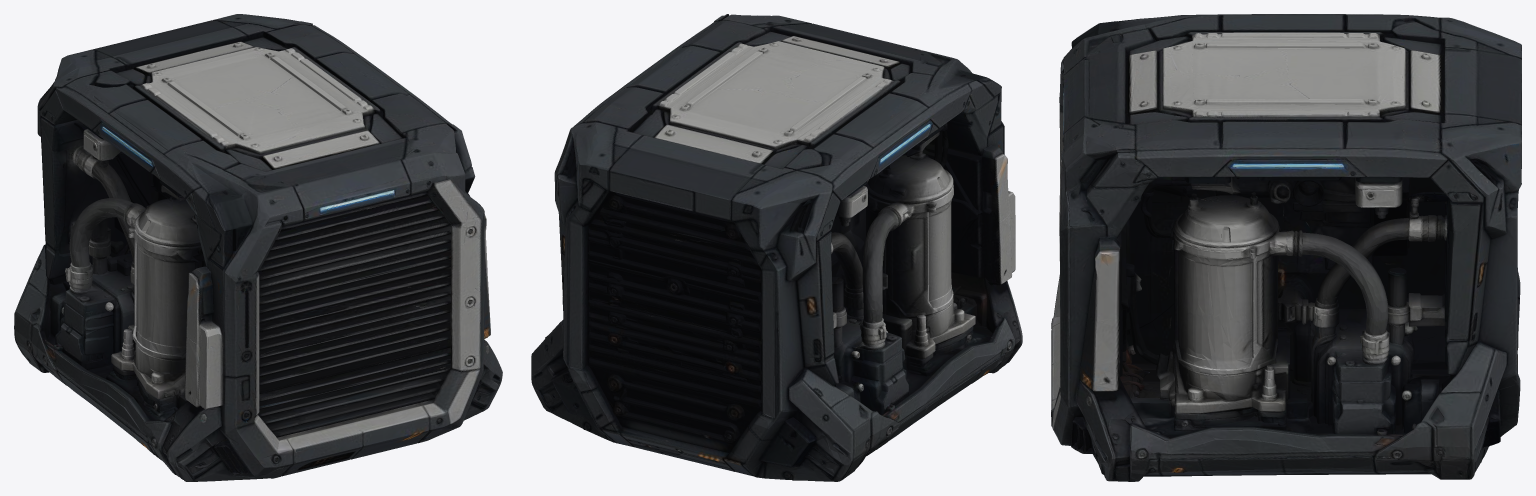
The model's file is thermal.glb.
3 views of the same model, side by side, from view 1: azimuth 30°, elevation 25°; view 2: azimuth 150°, elevation 25°; view 3: azimuth 270°, elevation 25° (orthographic). The views are drawn at different scales.
Bounding box in the file's own units: 0.9217 × 0.7929 × 1.
Materials: 1 (1 with a texture image).
